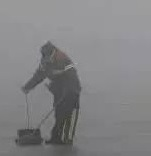person: (20, 40, 81, 146)
